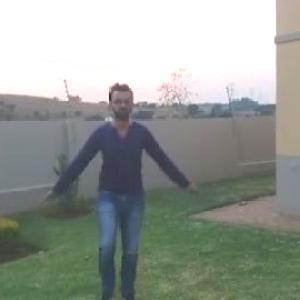land: (39, 78, 193, 299)
